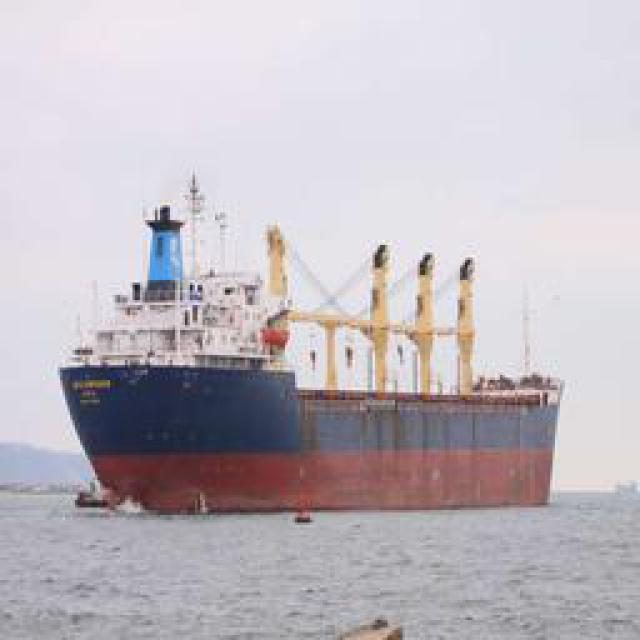Ship: (61, 172, 431, 512)
